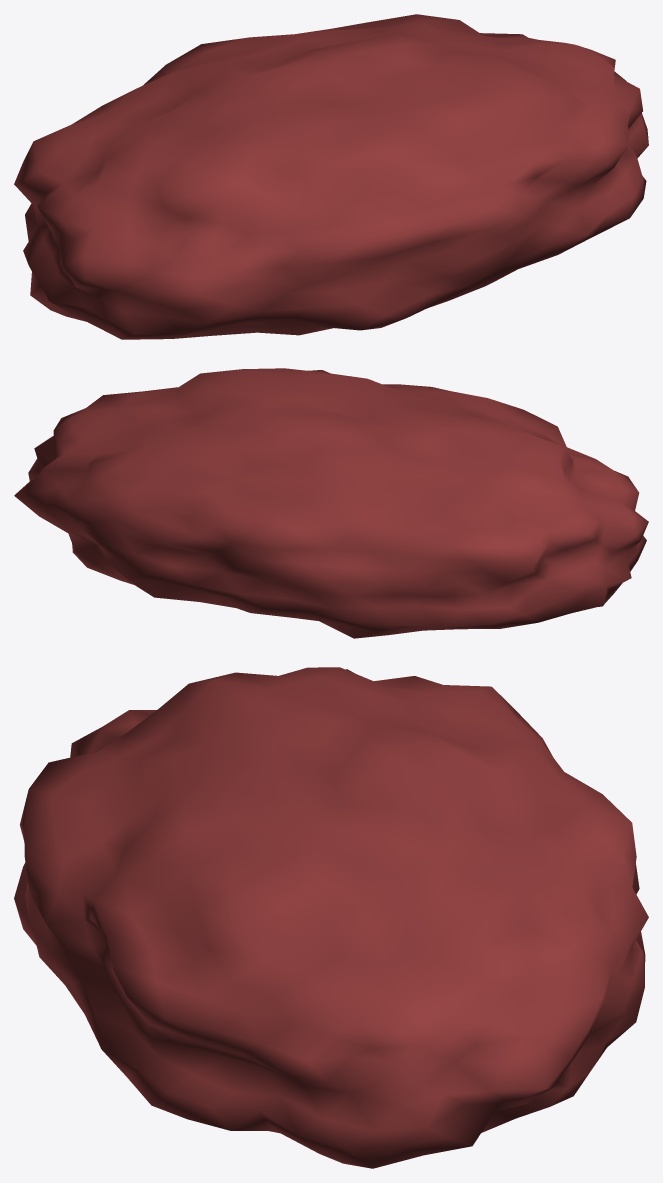
The model's file is raw-wolf-meat.glb.
3 renders of one model, top to bottom at view 1: azimuth 30°, elevation 25°; view 2: azimuth 150°, elevation 25°; view 3: azimuth 270°, elevation 25°, orthographic. The views are drawn at different scales.
Visible parts, largest first — view 1: Body_lod0; view 2: Body_lod0; view 3: Body_lod0.
Boxes of the visible parts, x1,y1,x2,y2 form: Body_lod0: (14,14,648,339); Body_lod0: (14,368,648,638); Body_lod0: (14,667,648,1168).
Size of what is drawn, in the model's own units: 0.1313 by 0.0324 by 0.0879.
